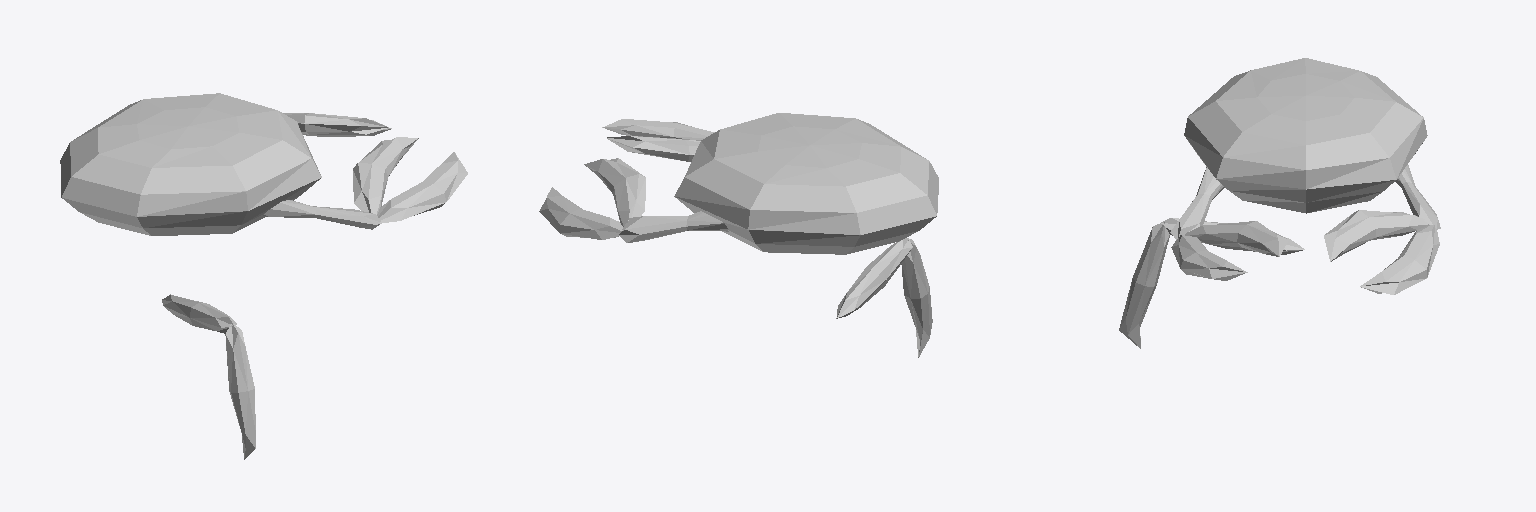
Rendered from crab.obj.
3 renders of one model, left to right at view 1: azimuth 30°, elevation 25°; view 2: azimuth 150°, elevation 25°; view 3: azimuth 270°, elevation 25°, orthographic.
Parts seen in each view (by area): view 1: Plane.003, Cube.014_Cube.015, Cube.015_Cube.016, Cube.016_Cube.017; view 2: Plane.003, Cube.016_Cube.017, Cube.015_Cube.016, Cube.014_Cube.015; view 3: Plane.003, Cube.016_Cube.017, Cube.014_Cube.015, Cube.015_Cube.016.
Boxes of the visible parts, x1,y1,x2,y2 form: Plane.003: [60, 93, 321, 235]; Cube.014_Cube.015: [263, 137, 467, 229]; Cube.015_Cube.016: [162, 294, 255, 459]; Cube.016_Cube.017: [283, 113, 391, 136]; Plane.003: [674, 113, 938, 254]; Cube.016_Cube.017: [539, 158, 728, 242]; Cube.015_Cube.016: [836, 238, 932, 357]; Cube.014_Cube.015: [602, 119, 714, 161]; Plane.003: [1184, 58, 1427, 213]; Cube.016_Cube.017: [1324, 165, 1440, 294]; Cube.014_Cube.015: [1170, 167, 1288, 280]; Cube.015_Cube.016: [1119, 218, 1304, 348].
Bounding box in the file's own units: 5.11 × 3.58 × 3.92.